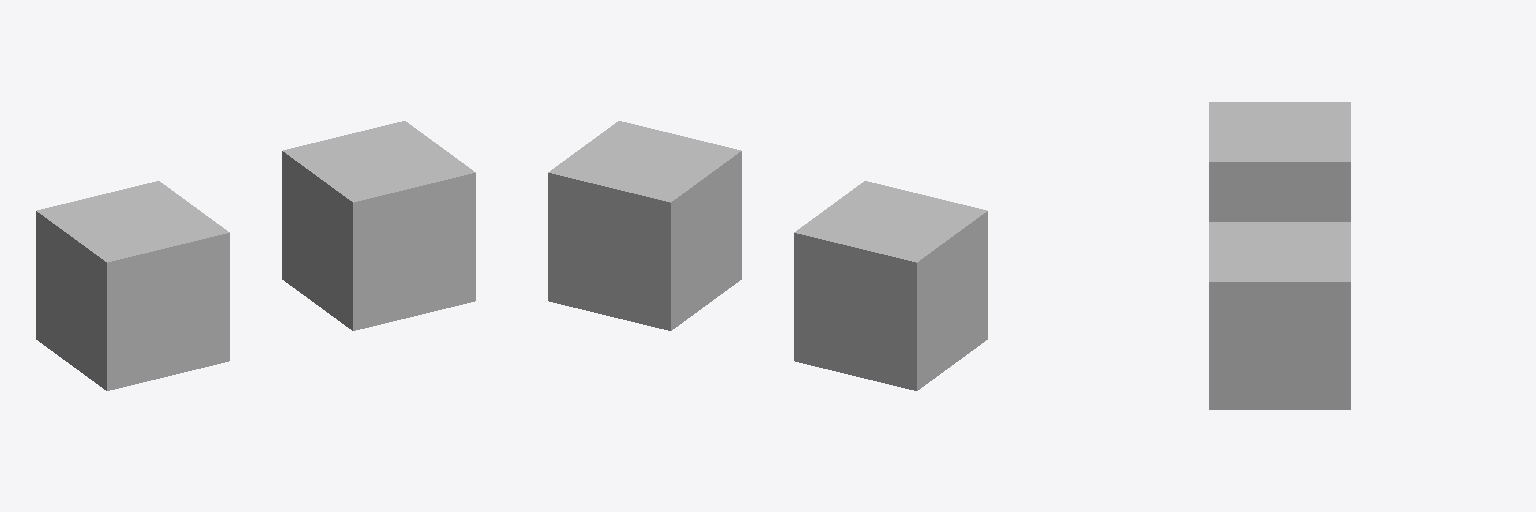
Rendered from cubeDouble.obj.
3 views of the same model, side by side, from view 1: azimuth 30°, elevation 25°; view 2: azimuth 150°, elevation 25°; view 3: azimuth 270°, elevation 25° (orthographic).
Visible parts, largest first — view 1: Cube, Cube.001; view 2: Cube, Cube.001; view 3: Cube.001, Cube.
Part boxes in pixels (x1,y1,x2,y2): Cube: (36, 181, 229, 390); Cube.001: (282, 121, 475, 330); Cube: (794, 181, 987, 390); Cube.001: (548, 121, 741, 330); Cube.001: (1209, 222, 1350, 409); Cube: (1209, 102, 1350, 221).
Bounding box in the file's own units: 6 × 2 × 2.